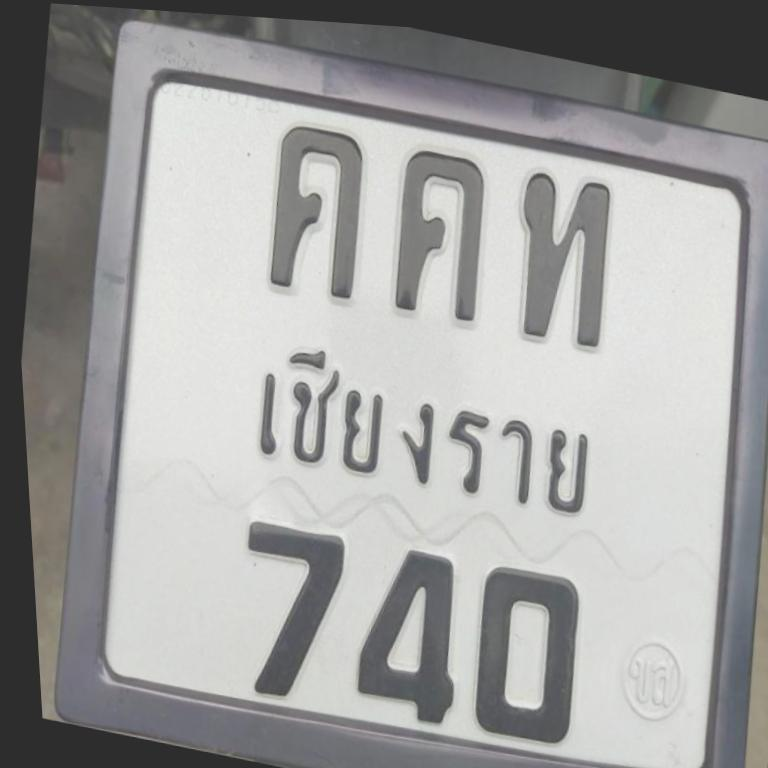license plate: (56, 22, 768, 768)
